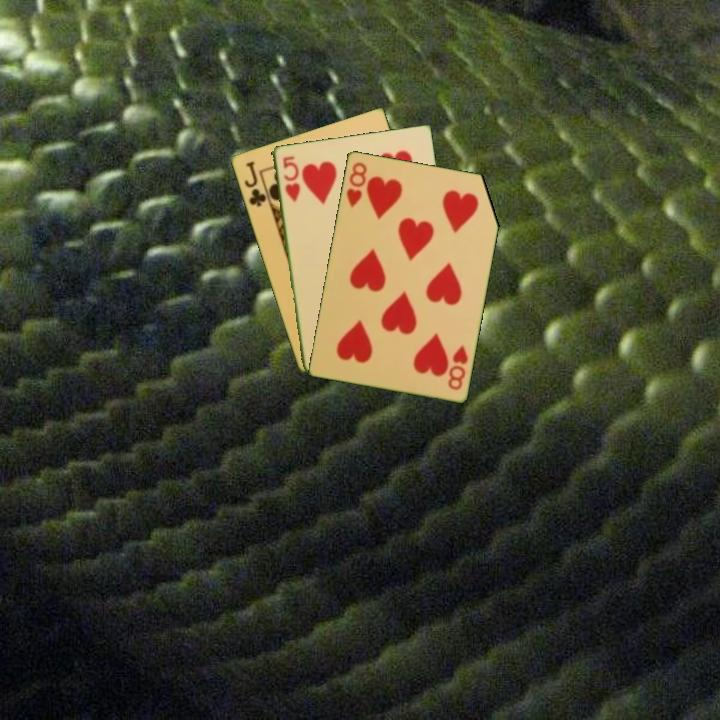5h: (279, 152, 303, 204)
8h: (343, 158, 370, 210), (444, 341, 471, 393)
Jc: (240, 158, 269, 210)
